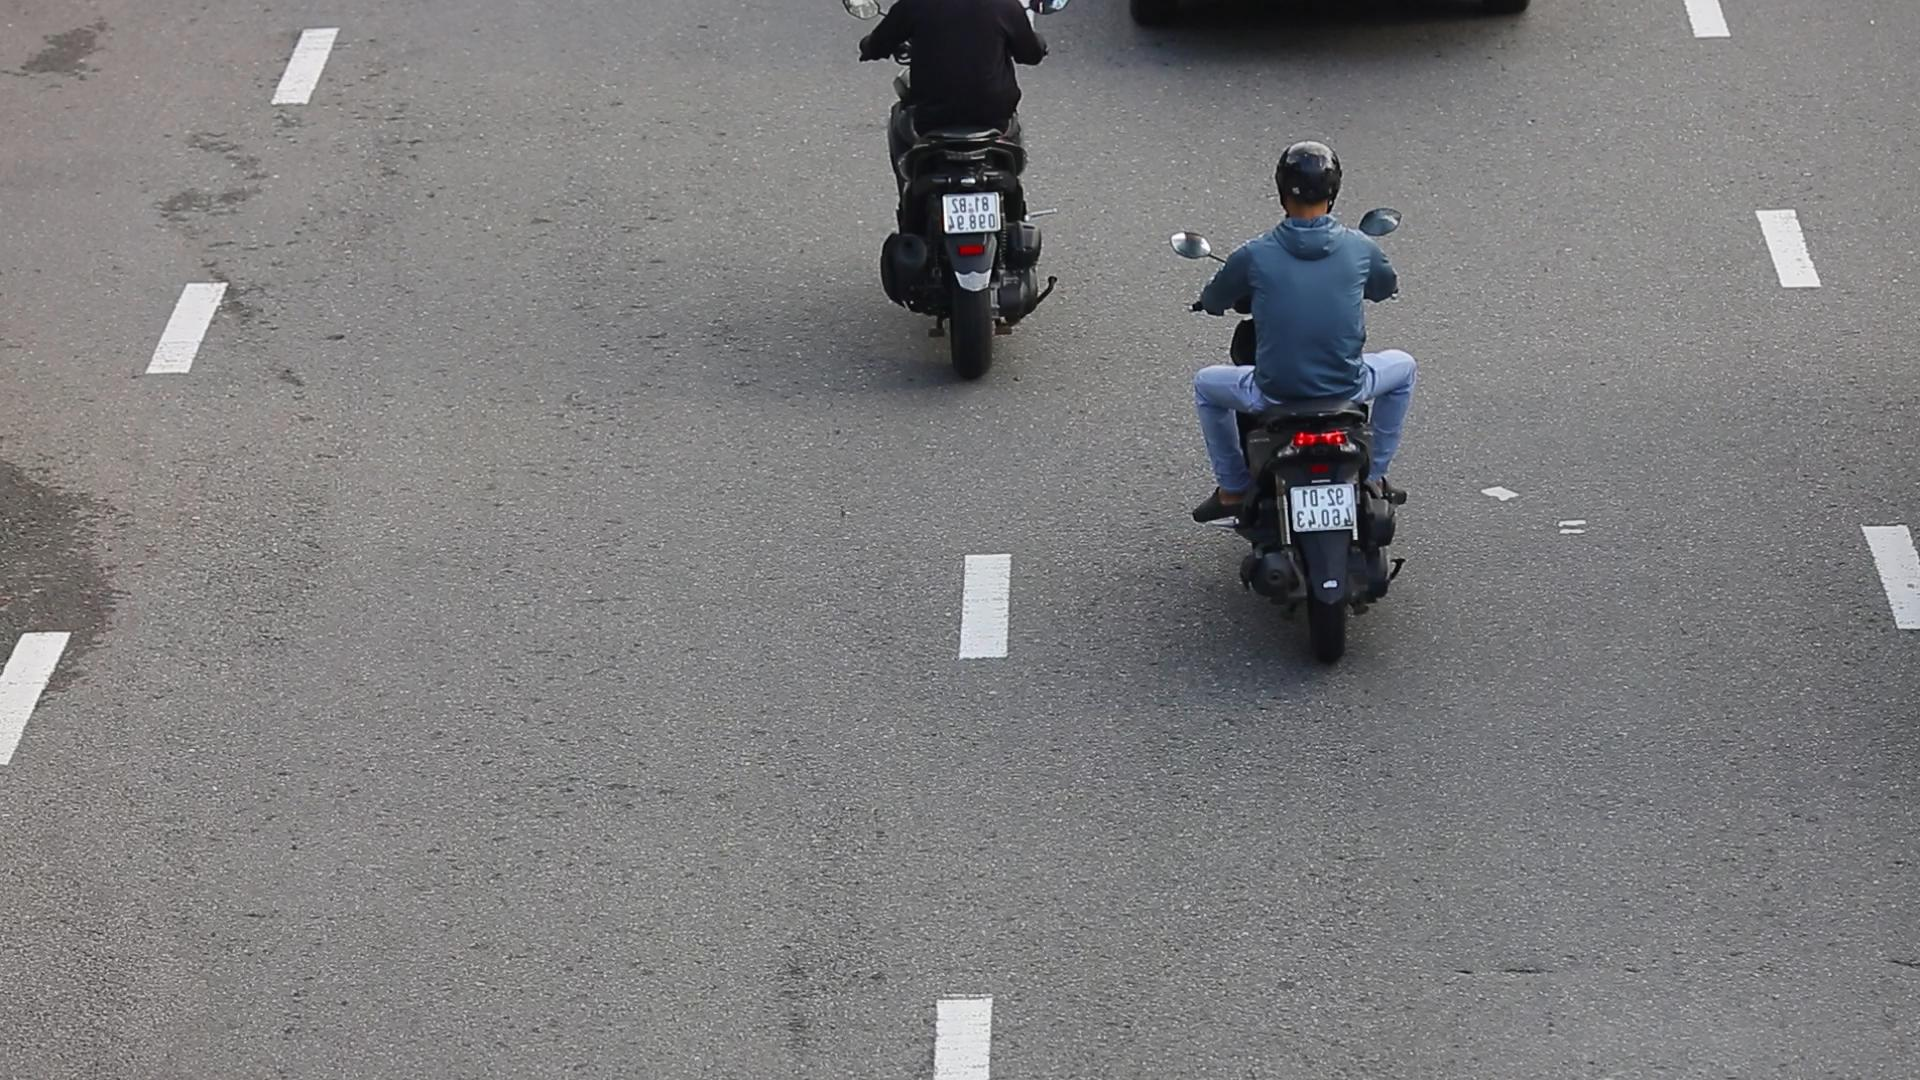motobike: (1172, 131, 1415, 669)
